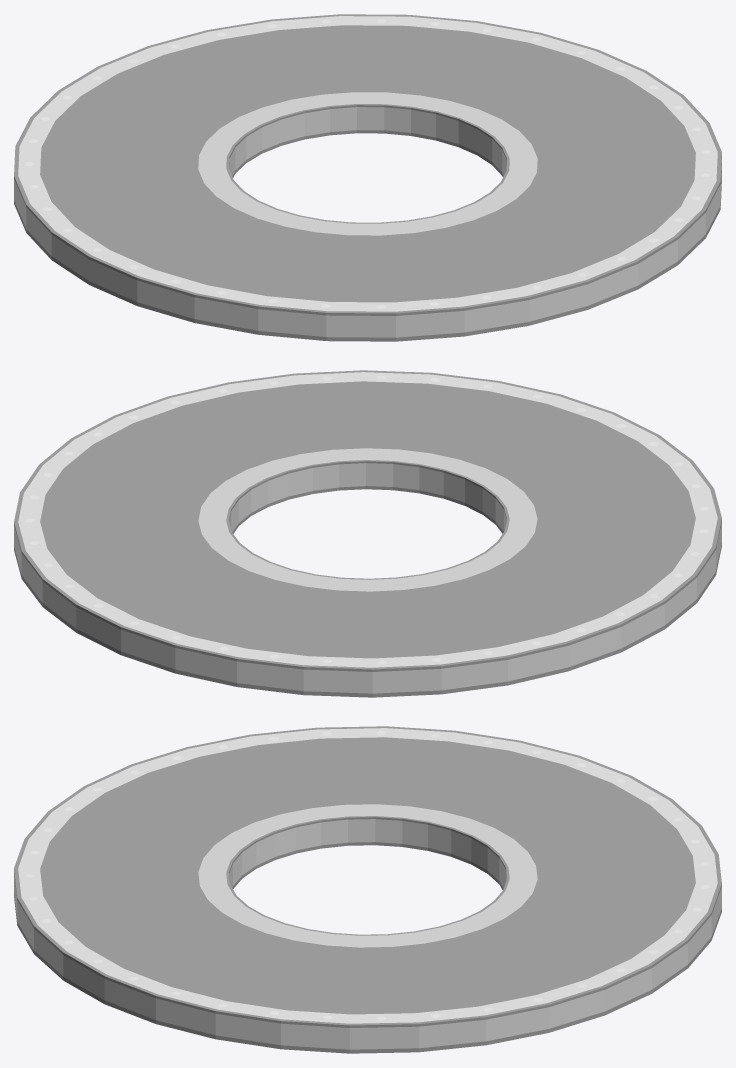
File: Test_mainCircle.fbx
The picture shows the model from 3 angles, top to bottom: view 1: azimuth 30°, elevation 25°; view 2: azimuth 150°, elevation 25°; view 3: azimuth 270°, elevation 25°; orthographic projection.
Visible parts, largest first — view 1: SmartSeparate_34; view 2: SmartSeparate_34; view 3: SmartSeparate_34.
Boxes of the visible parts, left/top/right/bottom form: SmartSeparate_34: left=14, top=14, right=721, bottom=341; SmartSeparate_34: left=14, top=370, right=721, bottom=697; SmartSeparate_34: left=14, top=726, right=721, bottom=1053.
Size of the model in its own units: 296 by 13.02 by 296.
